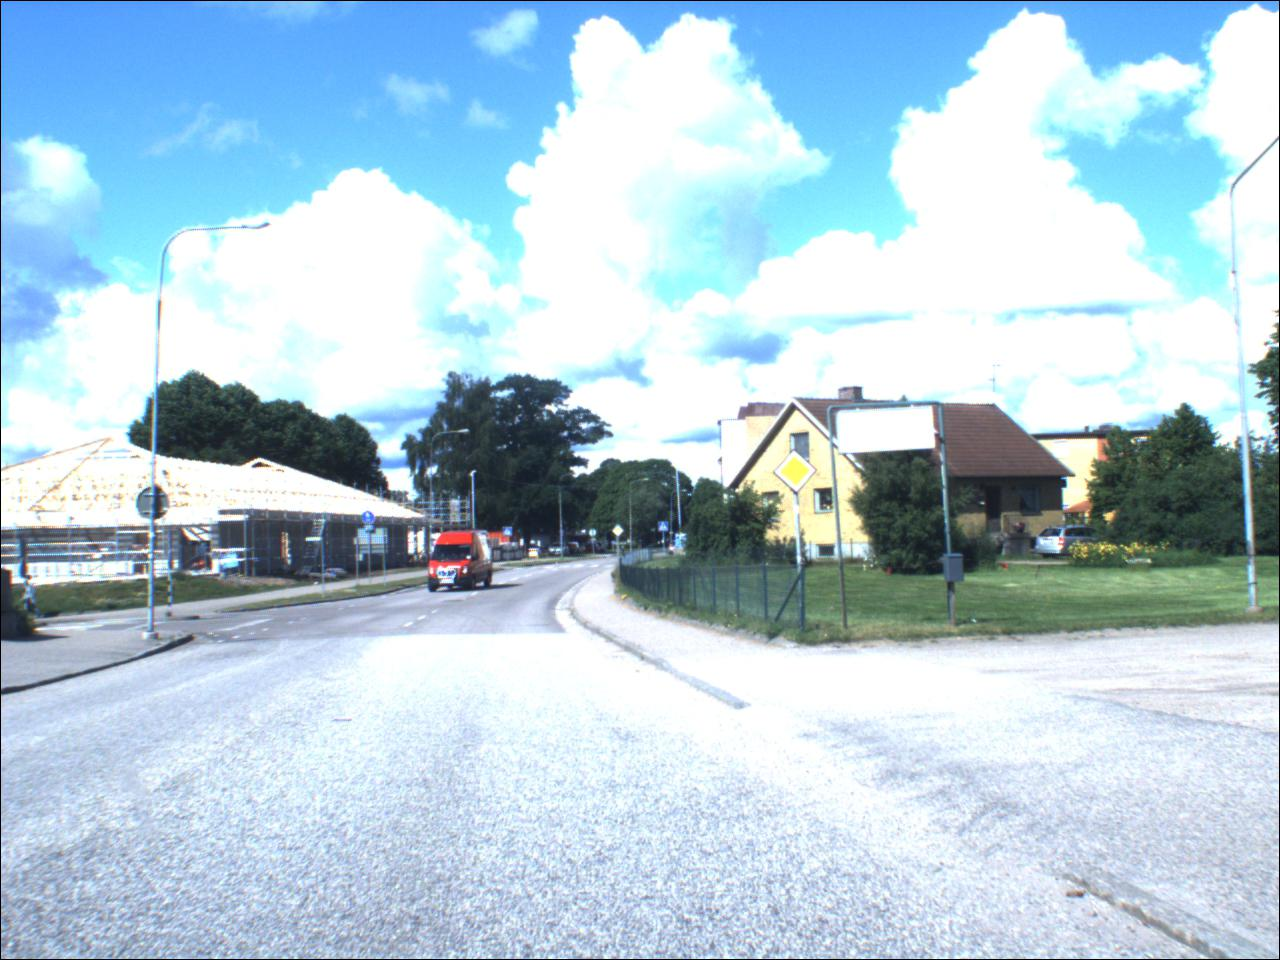PEDESTRIAN_CROSSING: (660, 523, 671, 534), (505, 529, 516, 541)
PRIORITY_ROAD: (773, 452, 819, 496), (614, 525, 627, 541)
